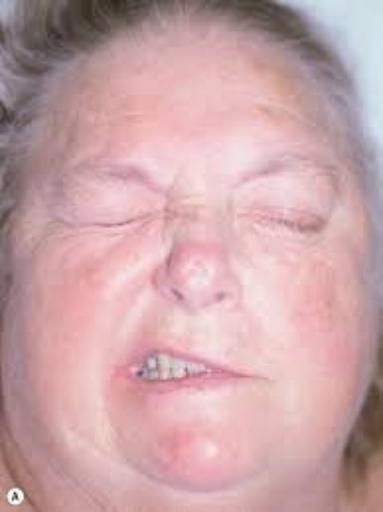left_eye: (245, 194, 333, 244)
left_lip_corner: (245, 364, 277, 392)
right_eye: (62, 194, 155, 236)
right_lip_corner: (117, 347, 147, 388)
